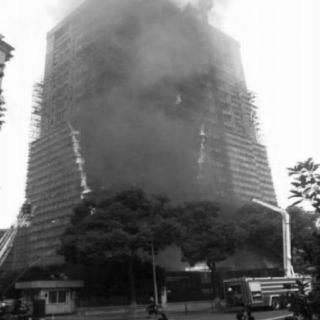Fire: (68, 128, 106, 216)
